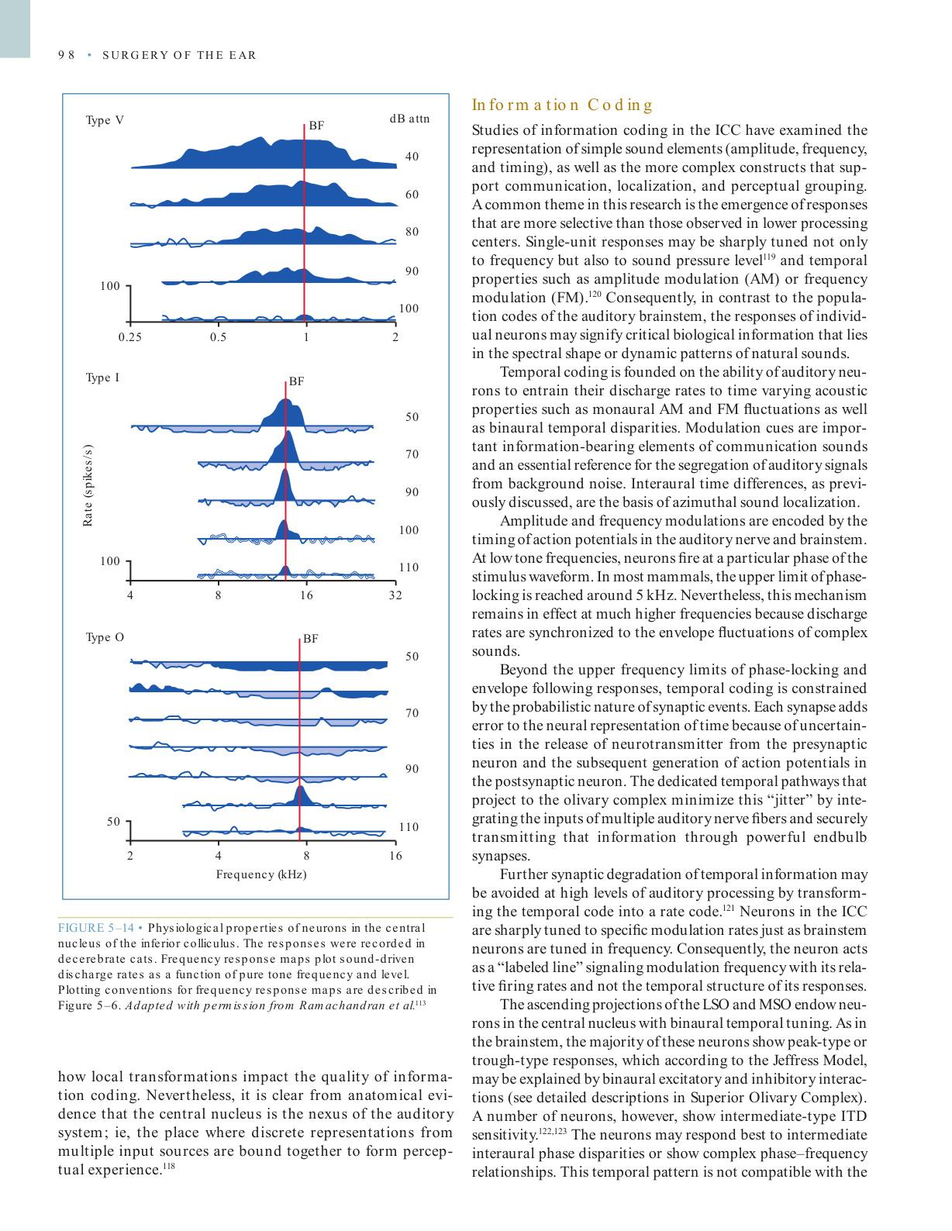caption: (56, 919, 439, 1013), (84, 631, 126, 646), (84, 114, 125, 128), (85, 371, 121, 386)
header: (101, 48, 259, 61)
image: (78, 624, 432, 889), (77, 108, 437, 353), (73, 363, 428, 609)
section-heading: (469, 95, 654, 115)
text: (470, 121, 871, 1184), (55, 1067, 456, 1179)
